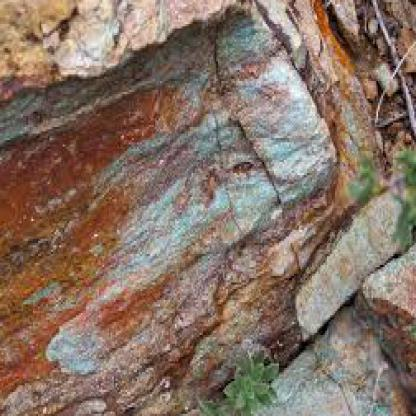Metamorphic_Quartize: (0, 0, 342, 191), (243, 309, 414, 414), (276, 206, 414, 333)
